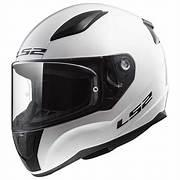Helmet: (12, 4, 167, 175)
